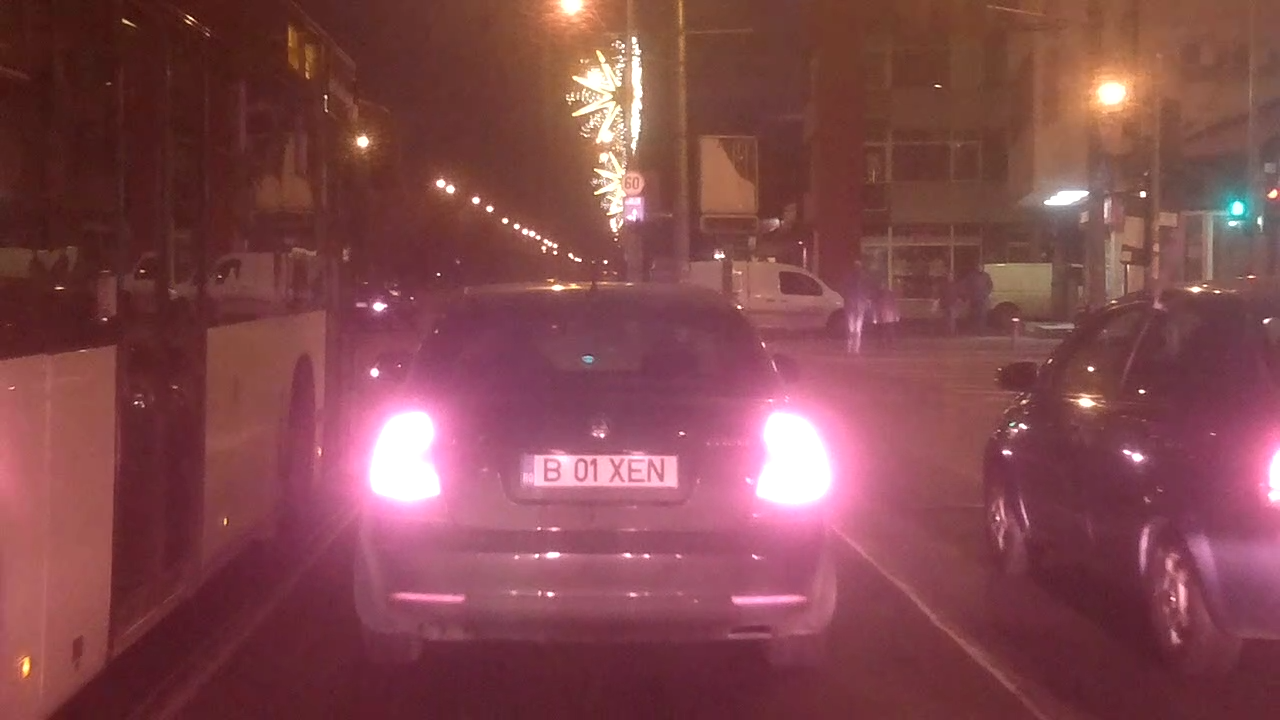license-plate: (517, 451, 682, 491)
